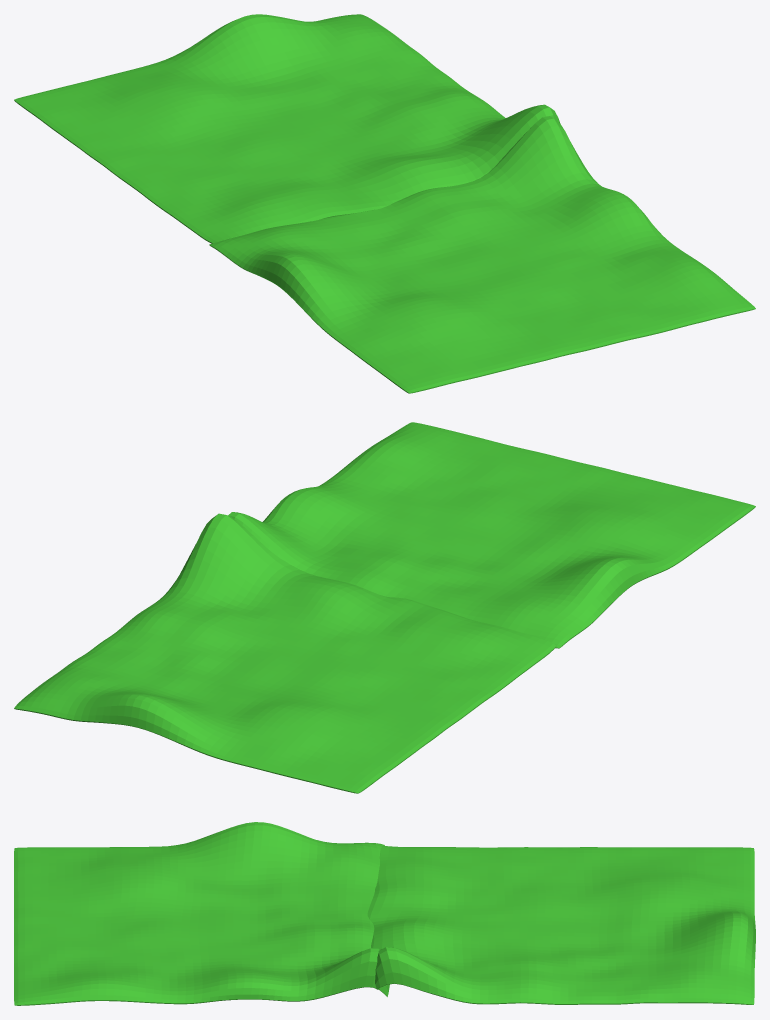
File: Suelo.fbx
3 views of the same model, one above another, from view 1: azimuth 30°, elevation 25°; view 2: azimuth 150°, elevation 25°; view 3: azimuth 270°, elevation 25° (orthographic). The views are drawn at different scales.
Parts seen in each view (by area): view 1: Plane, Plane.001; view 2: Plane.001, Plane; view 3: Plane.001, Plane.
Boxes of the visible parts, x1=… form: Plane: x1=209, y1=116, x2=755, y2=393; Plane.001: x1=14, y1=14, x2=560, y2=243; Plane.001: x1=14, y1=513, x2=555, y2=793; Plane: x1=228, y1=422, x2=755, y2=648; Plane.001: x1=367, y1=845, x2=755, y2=1004; Plane: x1=14, y1=822, x2=389, y2=1005.
Size of the model in its own units: 9906 by 1538 by 19280.
